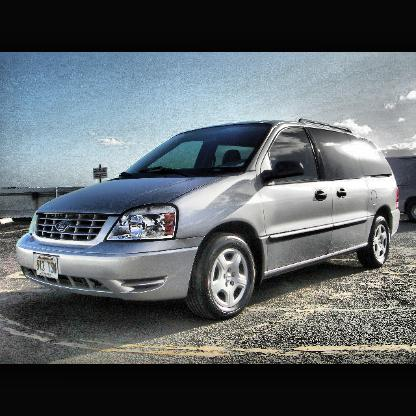Ford Freestar Minivan 2007: (14, 119, 404, 317)
